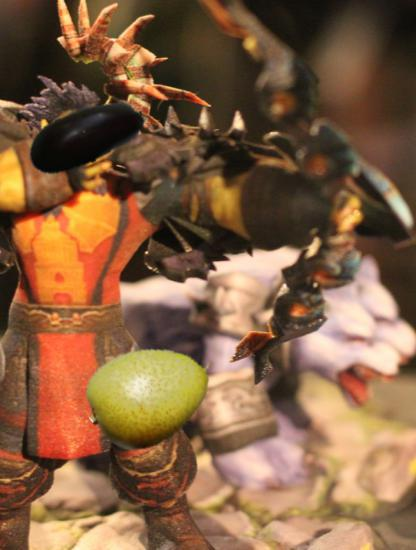Eggplant: (24, 73, 150, 199)
Pear: (85, 327, 216, 458)
